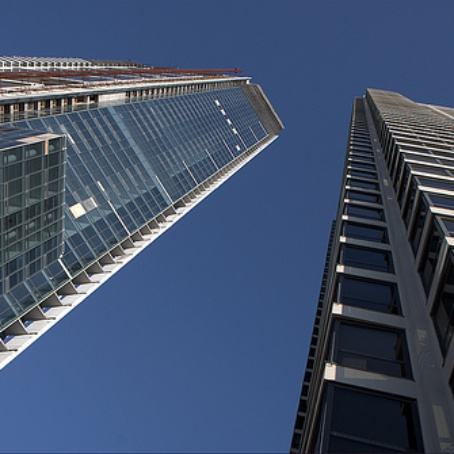building: (1, 65, 291, 353), (305, 88, 454, 454)
sky: (11, 126, 337, 450), (1, 1, 444, 83)
